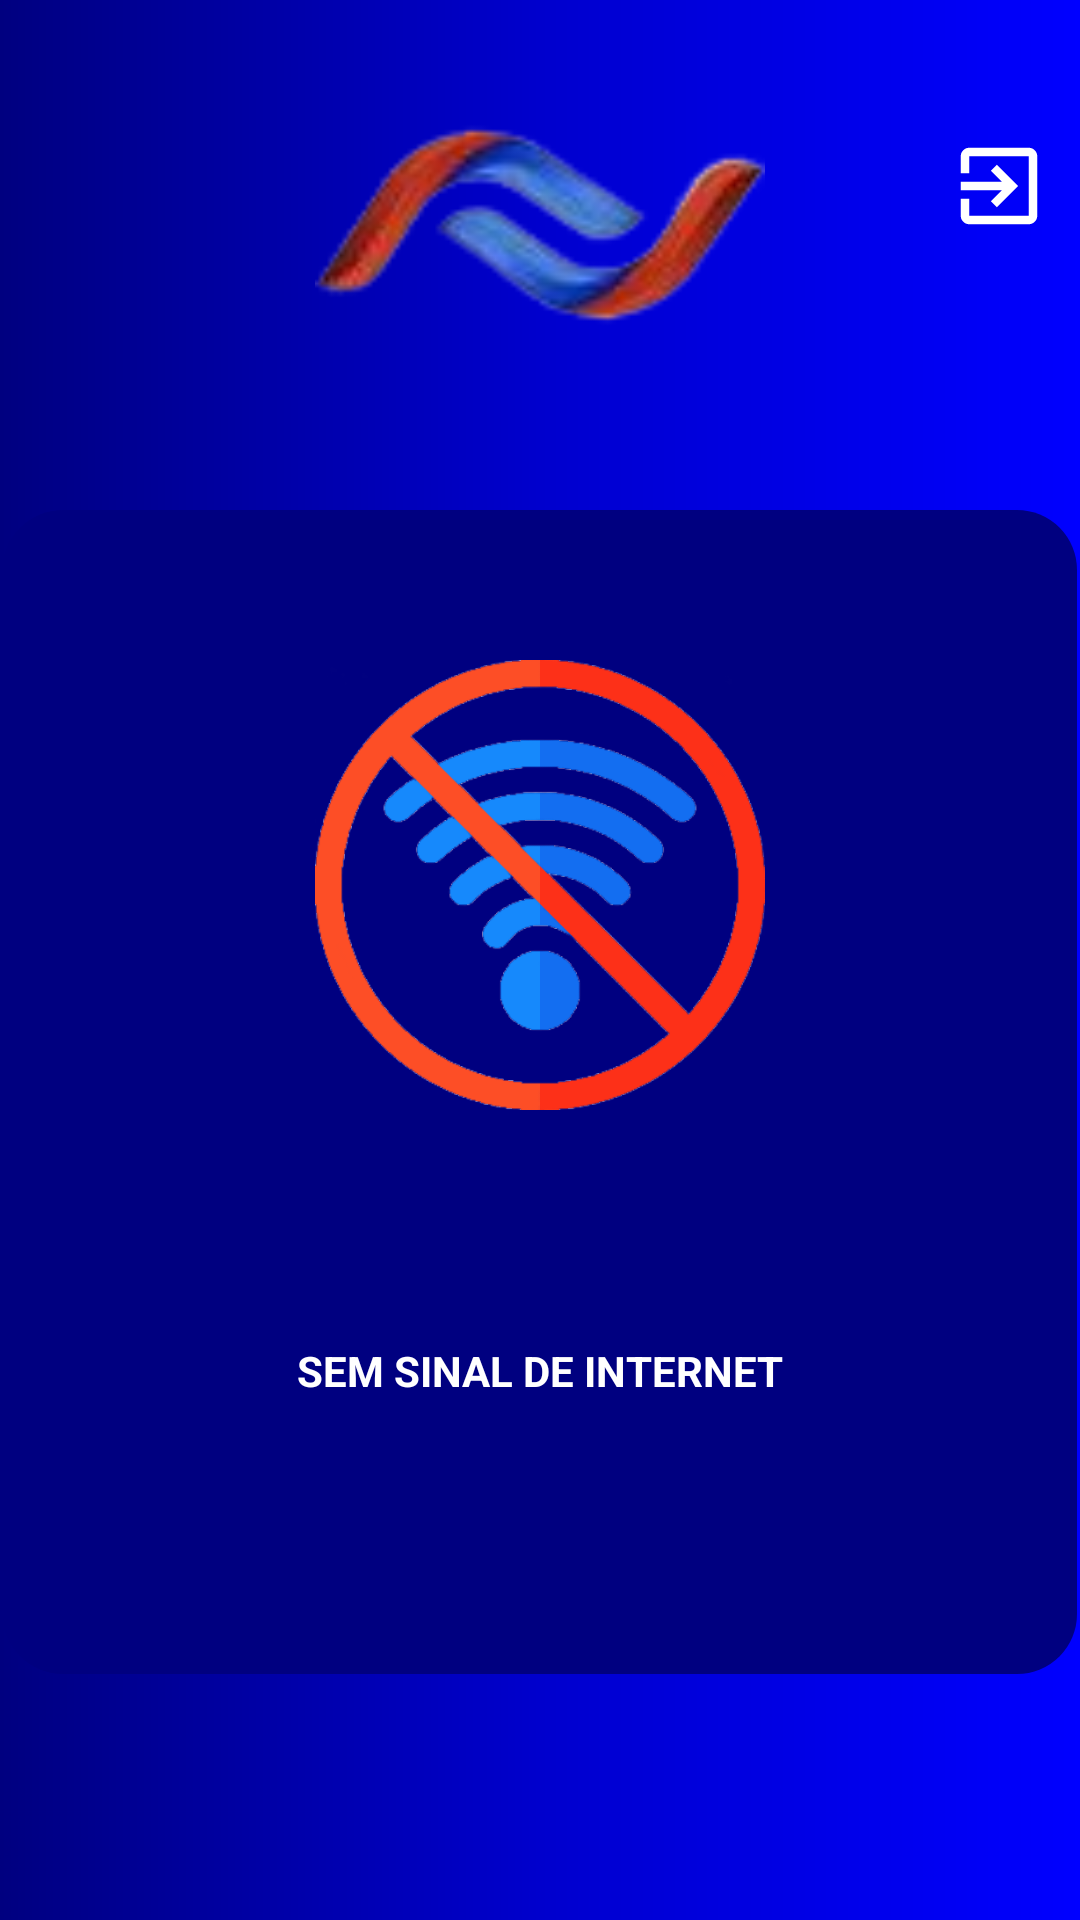

Named icons in this screenshot (1080px×1920px) and their centers, (x=x, y=y):
exit: (x=999, y=186)
